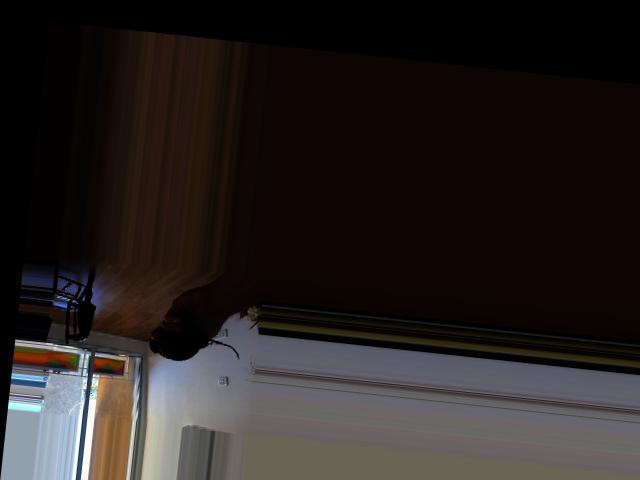beet: (146, 326, 240, 366)
